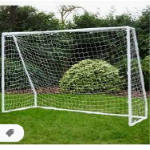goals: (1, 25, 149, 127)
